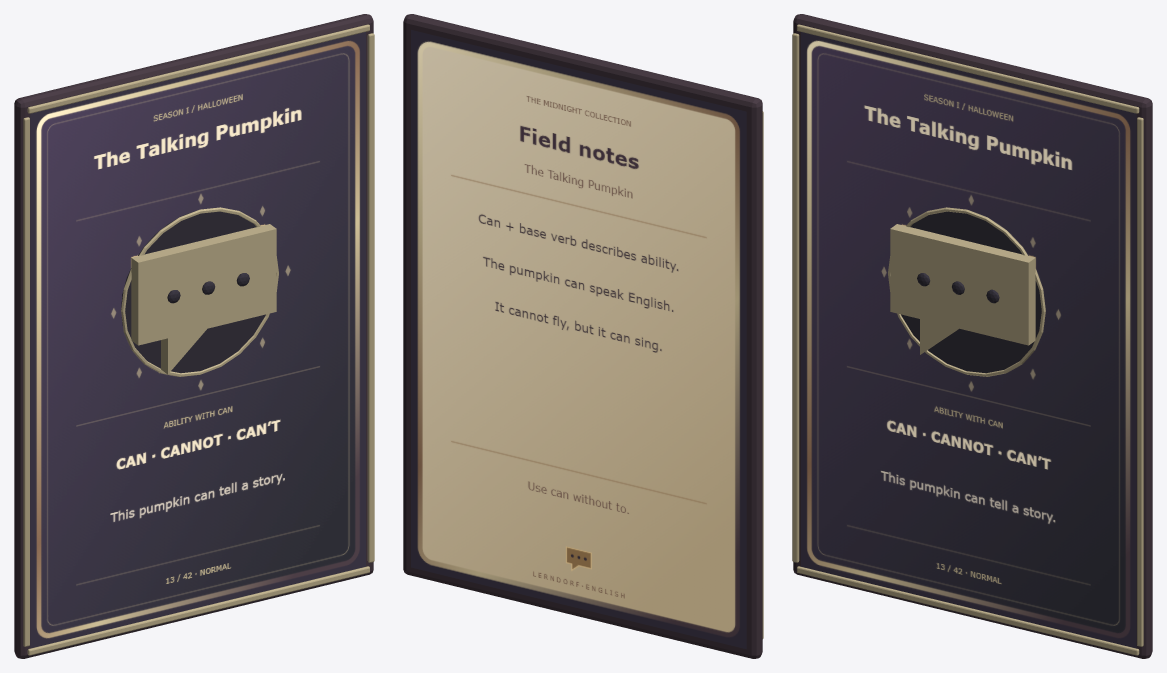
The model's file is talking-pumpkin.glb.
3 renders of one model, left to right at view 1: azimuth 30°, elevation 25°; view 2: azimuth 150°, elevation 25°; view 3: azimuth 330°, elevation 25°, orthographic.
Parts seen in each view (by area): view 1: Printed front and back.012, Foil side.012, Speech bubble, Cardstock body.012, Recessed medallion.012; view 2: Printed front and back.012, Cardstock body.012, Foil side.012; view 3: Printed front and back.012, Foil side.012, Speech bubble, Cardstock body.012, Recessed medallion.012.
Boxes of the visible parts, x1,y1,x2,y2 form: Printed front and back.012: [30, 32, 365, 648]; Foil side.012: [23, 24, 374, 655]; Speech bubble: [131, 224, 276, 374]; Cardstock body.012: [14, 14, 373, 658]; Recessed medallion.012: [121, 208, 265, 373]; Printed front and back.012: [411, 30, 746, 649]; Cardstock body.012: [403, 14, 762, 658]; Foil side.012: [762, 111, 763, 638]; Printed front and back.012: [801, 32, 1136, 648]; Foil side.012: [792, 24, 1143, 655]; Speech bubble: [890, 224, 1035, 354]; Cardstock body.012: [793, 14, 1152, 658]; Recessed medallion.012: [901, 208, 1045, 373].
Bounding box in the file's own units: 0.072 × 0.108 × 0.00717.
5 materials, 1 textured.
